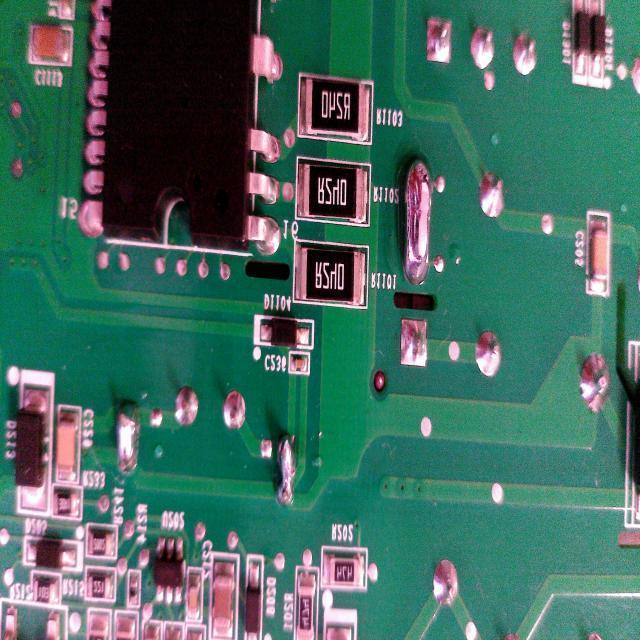Soldering bridge: (400, 150, 436, 290), (115, 396, 144, 479), (274, 428, 300, 512)
